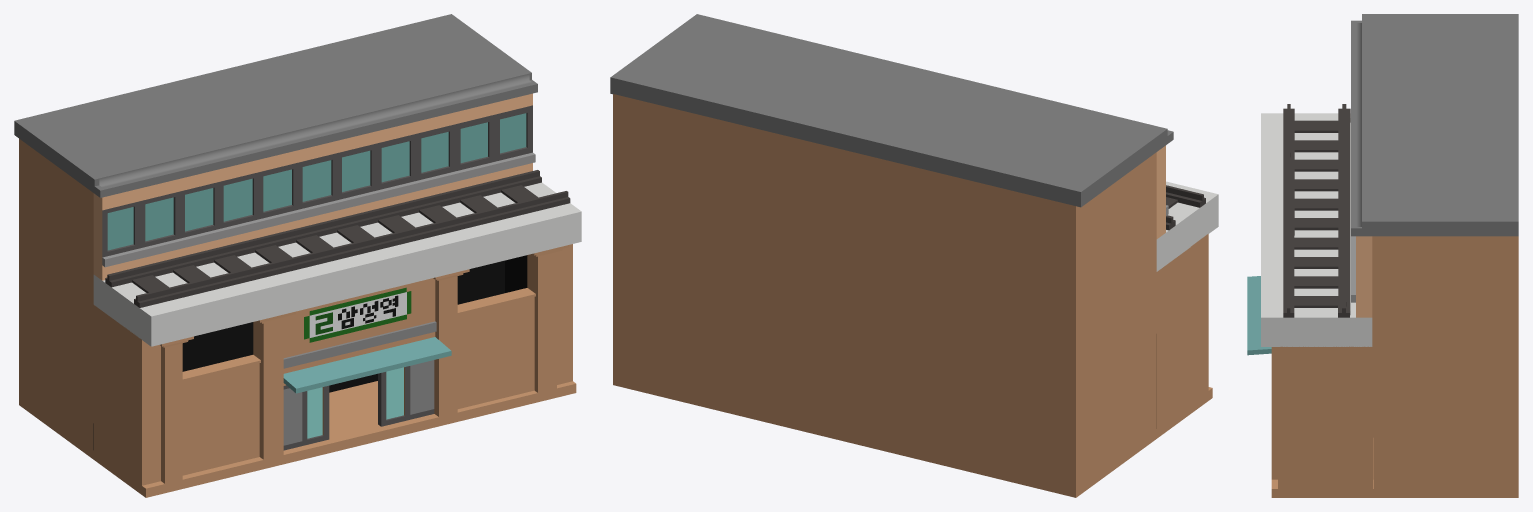
The model's file is 기차지나가는 열린 삼성역.fbx.
The picture shows the model from 3 angles, left to right: view 1: azimuth 30°, elevation 25°; view 2: azimuth 150°, elevation 25°; view 3: azimuth 270°, elevation 25°; orthographic projection. The views are drawn at different scales.
Visible parts, largest first — view 1: Box001; view 2: Box001; view 3: Box001.
Boxes of the visible parts, x1=… form: Box001: x1=14, y1=14, x2=581, y2=497; Box001: x1=610, y1=14, x2=1218, y2=497; Box001: x1=1247, y1=14, x2=1518, y2=497.
Size of the model in its own units: 50.81 by 31.68 by 28.05.
1 material, 1 textured.
